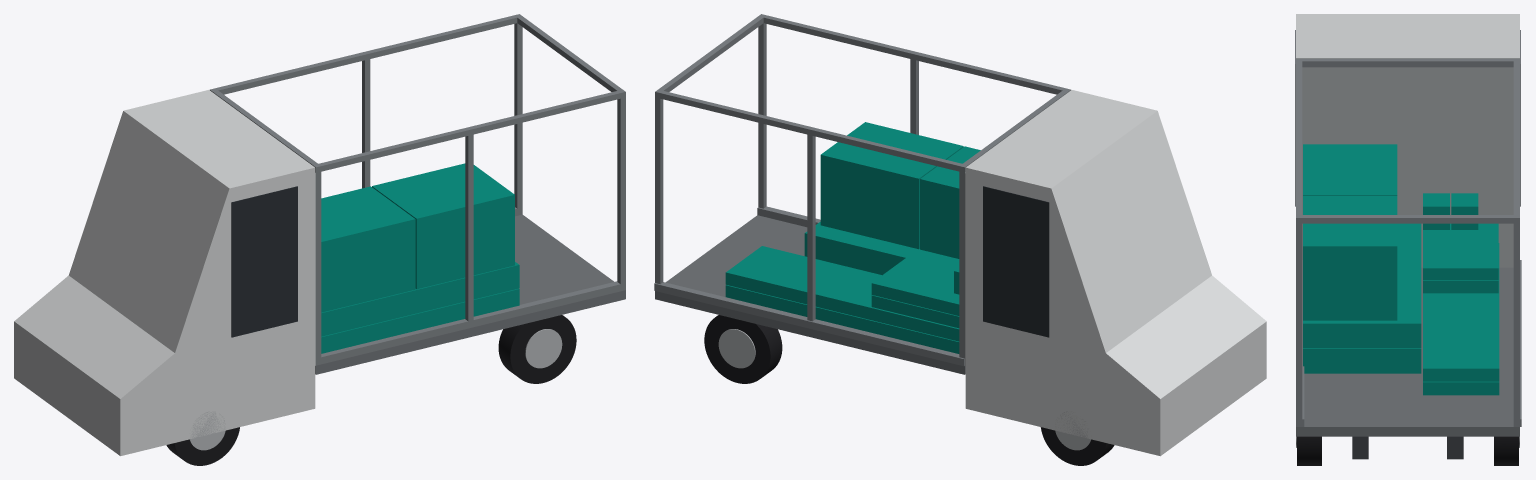
File: van-CG09.glb
3 renders of one model, left to right at view 1: azimuth 30°, elevation 25°; view 2: azimuth 150°, elevation 25°; view 3: azimuth 270°, elevation 25°, orthographic. The views are drawn at different scales.
Visible parts, largest first — view 1: cabine, part32, part31, janela, piso, part28, part27, part11, part23, part10, part12, part6 (+9 smaller); view 2: cabine, part32, janela, part30, piso, part31, part28, part13, part34, part29, part25, part12 (+12 smaller); view 3: frente, piso, part32, cabine, part30, part28, part31, part34, part27, part14, part15, part8 (+13 smaller).
Part boxes in pixels (x1,y1,x2,y2): cabine: [14, 90, 315, 456]; part32: [372, 163, 514, 289]; part31: [321, 186, 415, 312]; janela: [231, 186, 297, 337]; piso: [315, 214, 625, 374]; part28: [321, 262, 519, 336]; part27: [321, 288, 519, 353]; part11: [316, 281, 625, 364]; part23: [498, 315, 576, 383]; part10: [313, 89, 625, 172]; part12: [210, 14, 522, 94]; part6: [465, 134, 473, 328]; cabine: [965, 90, 1266, 456]; part32: [820, 122, 963, 249]; janela: [983, 186, 1049, 337]; part30: [725, 246, 959, 341]; piso: [655, 215, 965, 374]; part31: [920, 146, 980, 258]; part28: [804, 222, 959, 275]; part13: [654, 282, 964, 366]; part34: [871, 257, 959, 315]; part29: [725, 285, 959, 353]; part25: [704, 315, 782, 383]; part12: [655, 89, 967, 172]; frente: [1302, 67, 1513, 267]; piso: [1296, 267, 1519, 436]; part32: [1303, 195, 1397, 320]; cabine: [1296, 14, 1519, 58]; part30: [1423, 243, 1499, 381]; part28: [1303, 223, 1421, 348]; part31: [1303, 144, 1397, 195]; part34: [1423, 223, 1498, 280]; part27: [1303, 348, 1421, 373]; part14: [1302, 58, 1517, 67]; part15: [1296, 215, 1519, 223]; part8: [1296, 223, 1302, 426].
Size of the model in its own units: 5.19 by 2.66 by 1.91.
